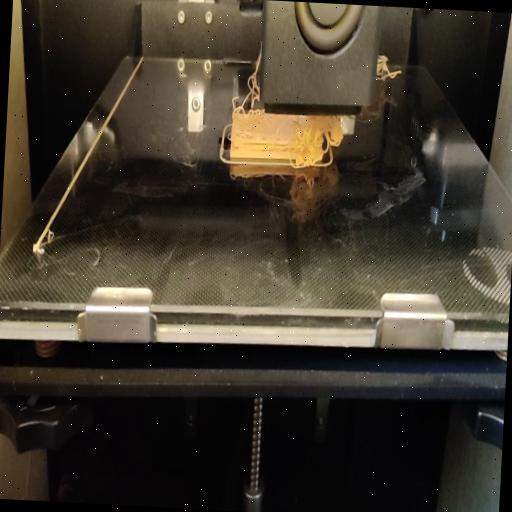spaghetti: (290, 113, 346, 175), (236, 44, 263, 112), (374, 45, 404, 85)
